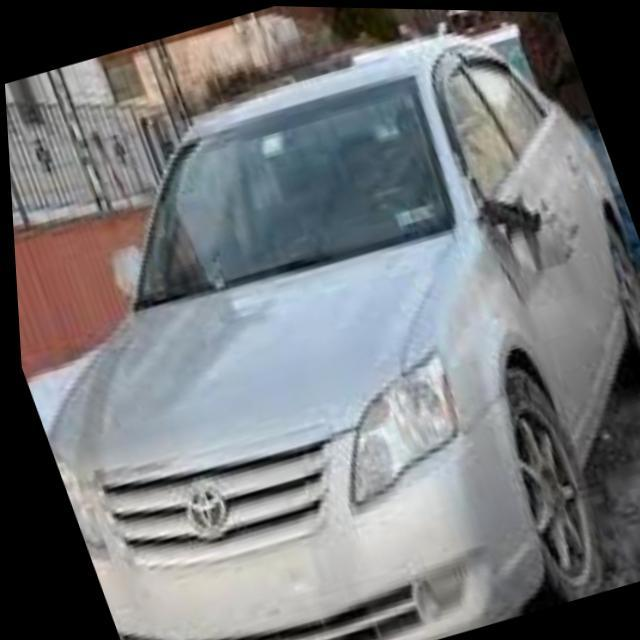crack: (472, 171, 585, 304)
